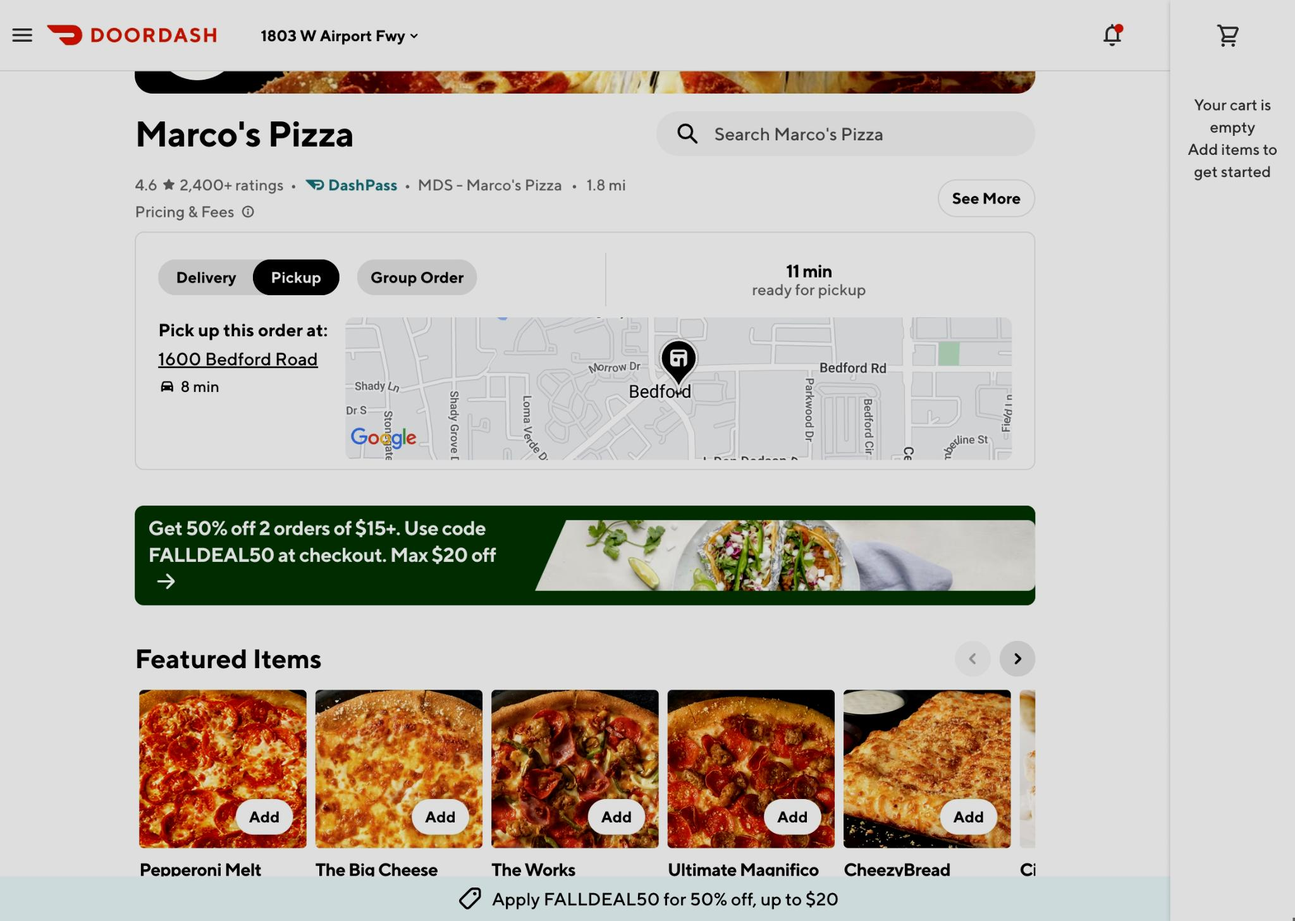webelement: (345, 316, 1011, 459), (139, 432, 425, 717), (139, 147, 425, 432), (425, 147, 710, 432), (425, 432, 710, 717), (710, 432, 995, 717), (710, 147, 995, 432), (995, 432, 1280, 717), (995, 147, 1280, 432), (134, 685, 310, 890), (310, 685, 486, 890), (486, 685, 662, 890), (662, 685, 838, 890), (838, 685, 1014, 890), (1014, 685, 1190, 890), (1190, 685, 1295, 890), (1169, 79, 1294, 195), (491, 886, 837, 910), (714, 121, 1016, 145), (134, 641, 321, 676), (157, 259, 337, 294), (355, 259, 476, 294), (157, 317, 326, 341), (138, 857, 305, 881), (314, 857, 481, 881), (491, 857, 658, 881), (666, 857, 833, 881), (843, 857, 1010, 881), (1019, 857, 1186, 881), (46, 25, 215, 45), (937, 180, 1033, 215), (157, 348, 317, 369), (649, 337, 707, 394), (417, 173, 562, 195), (260, 26, 404, 44), (752, 277, 865, 299), (1195, 857, 1295, 881), (134, 199, 233, 222), (179, 173, 282, 195), (234, 799, 292, 834), (410, 799, 468, 834), (586, 799, 644, 834), (762, 799, 820, 834), (1114, 799, 1172, 834), (939, 799, 996, 834), (1205, 13, 1249, 57), (0, 13, 43, 57), (369, 267, 462, 285), (327, 173, 396, 195), (350, 427, 415, 449), (954, 641, 990, 676), (998, 641, 1034, 676), (951, 188, 1020, 206), (1098, 13, 1124, 57), (175, 267, 235, 285), (785, 258, 830, 282), (270, 267, 320, 285), (585, 173, 624, 195), (180, 375, 218, 397), (248, 808, 279, 826), (423, 808, 454, 826), (600, 808, 631, 826), (776, 808, 807, 826), (952, 808, 983, 826), (1128, 808, 1159, 826), (134, 173, 156, 195), (286, 173, 301, 195), (399, 173, 414, 195), (565, 173, 580, 195), (1290, 799, 1295, 834)
